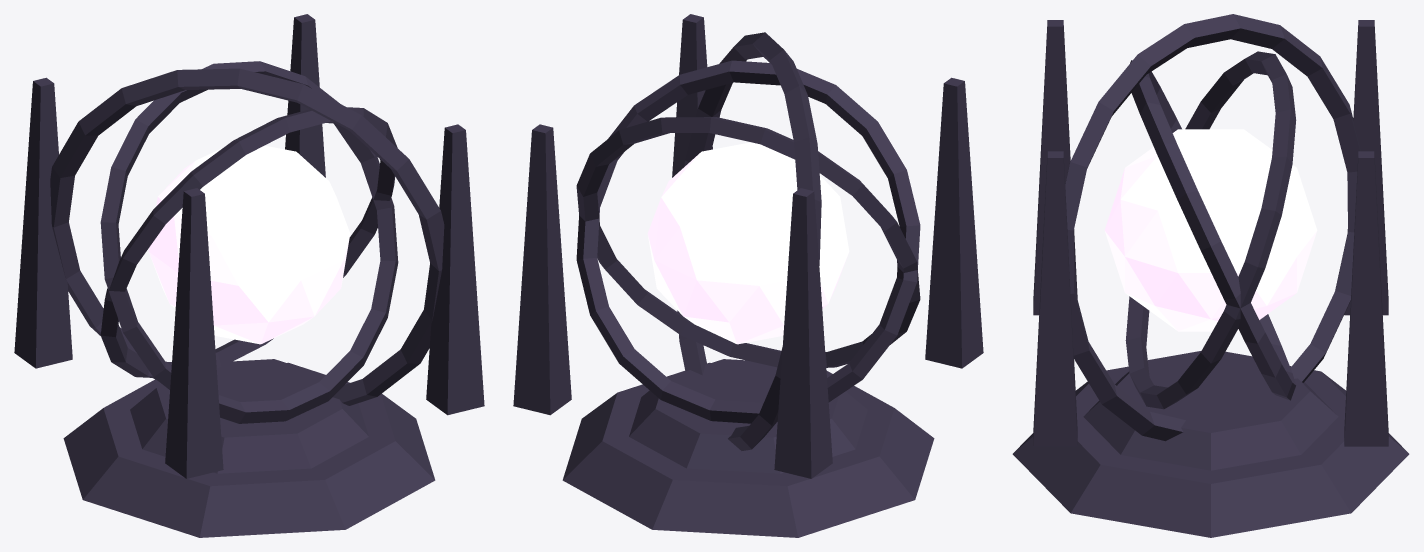
File: relic_origin_core.fbx
3 views of the same model, side by side, from view 1: azimuth 30°, elevation 25°; view 2: azimuth 150°, elevation 25°; view 3: azimuth 270°, elevation 25° (orthographic). The views are drawn at different scales.
Visible parts, largest first — view 1: RelicOriginCore; view 2: RelicOriginCore; view 3: RelicOriginCore.
Boxes of the visible parts, bbox=[...] form: RelicOriginCore: bbox=[14, 14, 484, 537]; RelicOriginCore: bbox=[513, 14, 983, 537]; RelicOriginCore: bbox=[1012, 14, 1409, 537].
Bounding box in the file's own units: 280 × 326 × 280.
